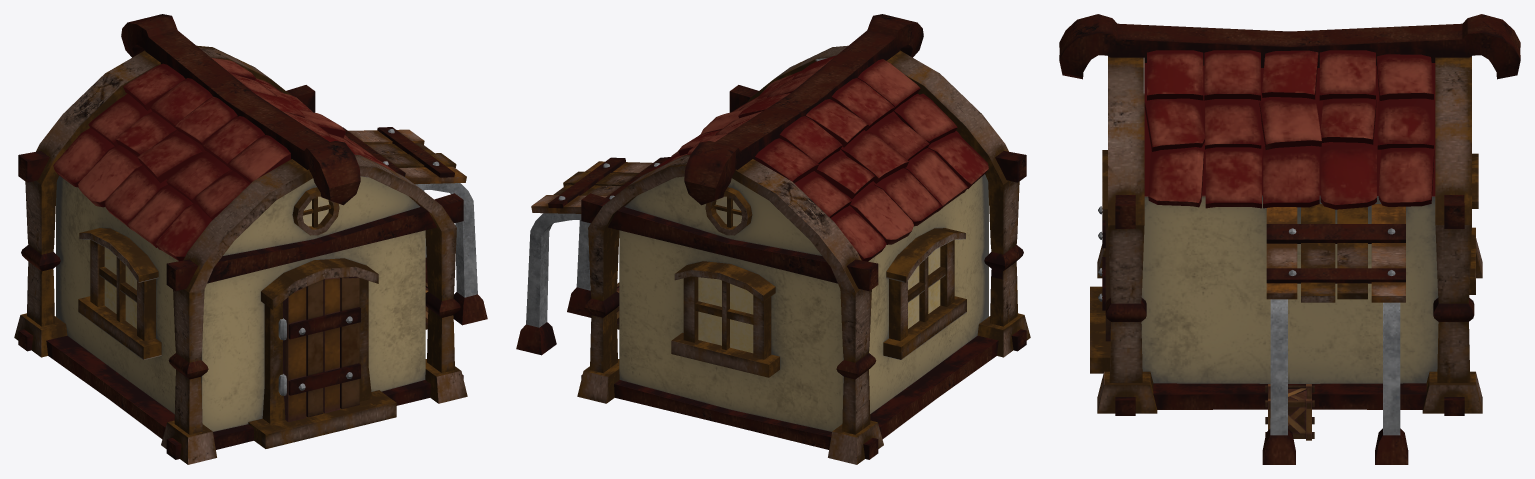
The model's file is AllHouse.fbx.
3 renders of one model, left to right at view 1: azimuth 30°, elevation 25°; view 2: azimuth 150°, elevation 25°; view 3: azimuth 270°, elevation 25°, orthographic. The views are drawn at different scales.
Visible parts, largest first — view 1: Cube; view 2: Cube; view 3: Cube, Cube.010.
Boxes of the visible parts, <box> form: Cube: <box>14,14,487,464</box>; Cube: <box>516,14,1030,464</box>; Cube: <box>1059,14,1520,464</box>; Cube.010: <box>1265,384,1314,440</box>.
Size of the model in its own units: 477 by 342 by 455.
